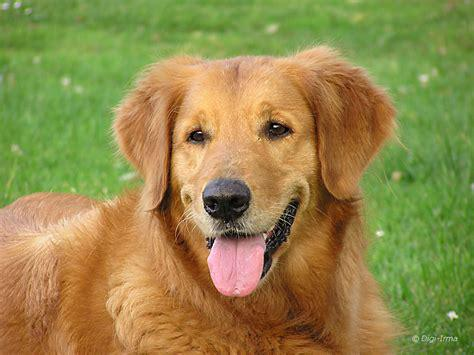dog: (1, 48, 393, 355)
